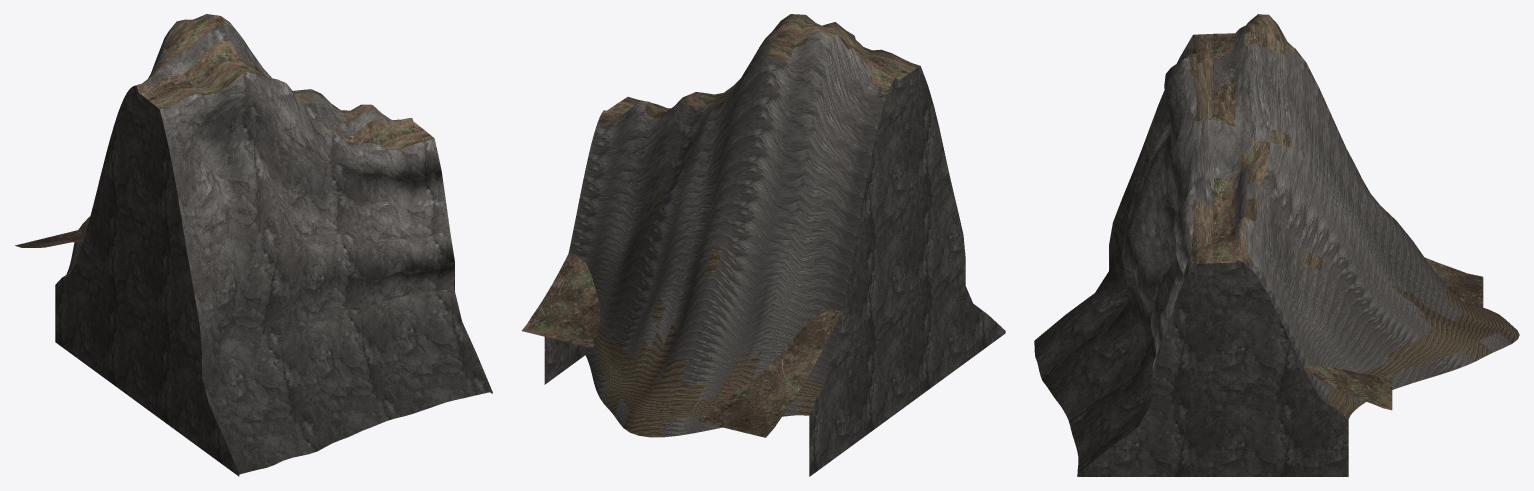
The model's file is seacliff_step_h5h3_v5_autumn.glb.
3 views of the same model, side by side, from view 1: azimuth 30°, elevation 25°; view 2: azimuth 150°, elevation 25°; view 3: azimuth 270°, elevation 25° (orthographic). The views are drawn at different scales.
Parts seen in each view (by area): view 1: seacliff_step_h5h3; view 2: seacliff_step_h5h3; view 3: seacliff_step_h5h3.
Part boxes in pixels (x1=…): seacliff_step_h5h3: x1=15, y1=14, x2=492, y2=476; seacliff_step_h5h3: x1=521, y1=14, x2=1005, y2=476; seacliff_step_h5h3: x1=1034, y1=14, x2=1519, y2=476.
Bounding box in the file's own units: 6 × 7.5 × 9.2.
2 materials, 2 textured.
